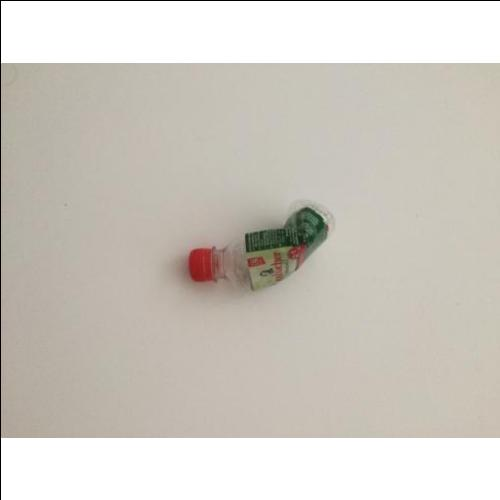plastic: (190, 200, 338, 291)
